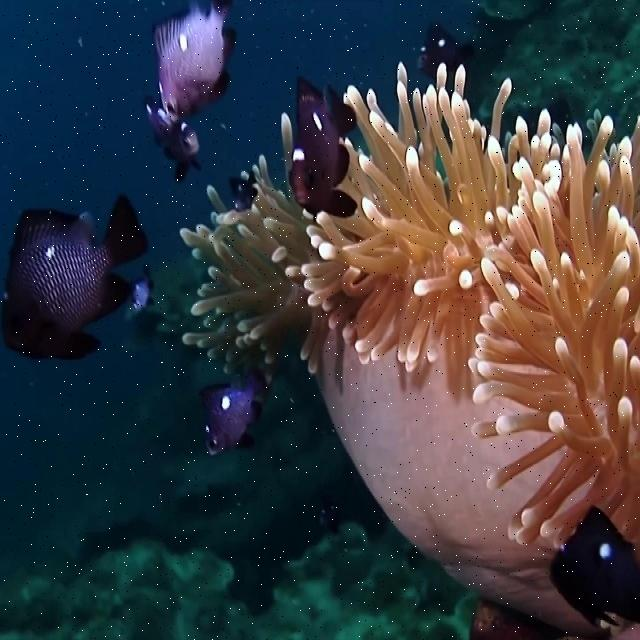fish: (1, 194, 148, 362), (152, 0, 236, 120), (289, 77, 357, 219), (551, 505, 638, 595), (200, 367, 266, 457)
reefs: (181, 59, 639, 638)
